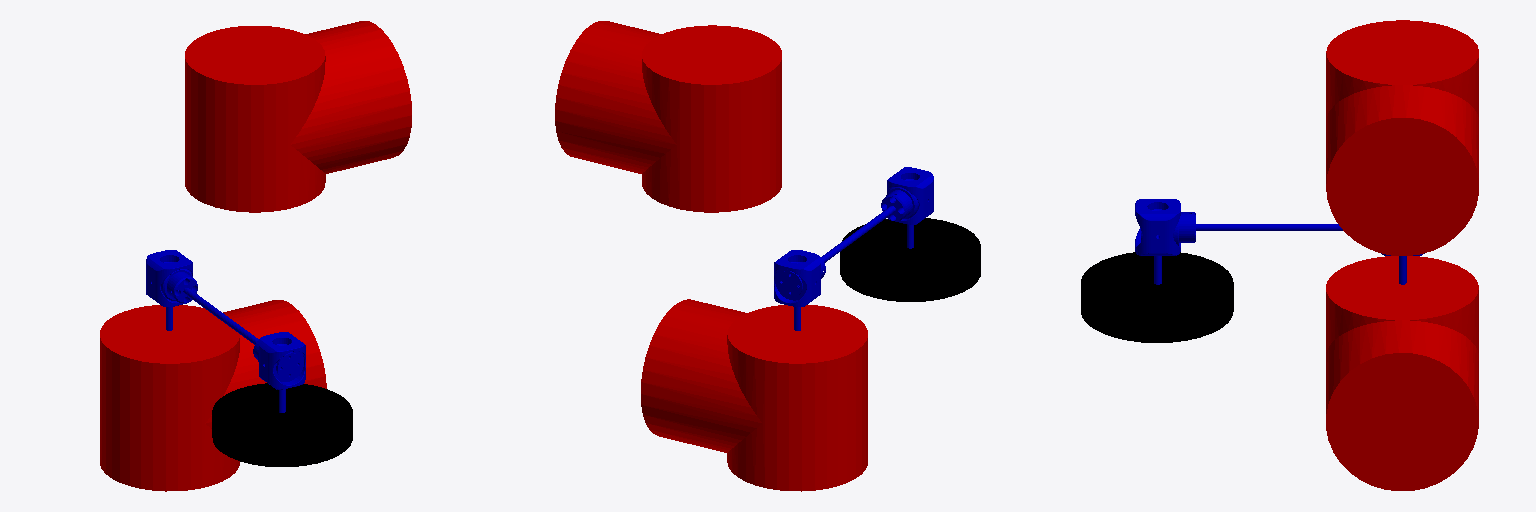
URDF robot description (node30):
<?xml version="1.0"?>
<robot  name="node30" >
 <material  name="blue" >
  <color  rgba="0 0 0.8 1.0" />
 </material>
 <material  name="red" >
  <color  rgba="0.8 0 0 1.0" />
 </material>
 <material  name="black" >
  <color  rgba="0.0 0.0 0.0 1.0" />
 </material>
 <link  name="root_mod" >
  <visual >
   <origin  rpy="0 0 0"  xyz="0 0 0" />
   <material  name="black" />
   <geometry >
    <cylinder  length="0.02"  radius="0.05" />
   </geometry>
  </visual>
 </link>
 <link  name="linkMod_1" >
  <inertial >
   <origin  rpy="-0.0 1.5707963267948966 0.0"  xyz="-8.881784197001253e-18 0.0 0.04" />
   <mass  value="0.2" />
   <inertia  ixz="0.0"  iyz="0.0"  iyy="0.0"  ixy="0.0"  ixx="0.0011127270000000002"  izz="0.0011127270000000002" />
  </inertial>
  <visual >
   <origin  rpy="-0.0 1.5707963267948966 0.0"  xyz="-8.881784197001253e-18 0.0 0.04" />
   <material  name="blue" />
   <geometry >
    <mesh  scale="0.001 0.001 0.001"  filename="./meshes/l1_module.obj" />
   </geometry>
  </visual>
 </link>
 <joint  type="revolute"  name="joint_1_revolute" >
  <parent  link="root_mod" />
  <child  link="linkMod_1" />
  <origin  rpy="0 0 0"  xyz="0.0 0.0 0.01" />
  <axis  xyz="0.0 0.0 1.0" />
 </joint>
 <transmission  name="act_joint_1_revolute" >
  <type  xmltext="SimpleTransmission" >
   SimpleTransmission
  </type>
  <actuator  name="trans_joint_1_revolute" >
   <mechanicalreduction  xmltext="1" >
    1
   </mechanicalreduction>
  </actuator>
  <joint  name="joint_1_revolute" />
 </transmission>
 <link  name="jointMod_2" >
  <inertial >
   <origin  rpy="-1.5707963267948963 0.0 0.0"  xyz="0.0 7.771561172376096e-19 -0.0035" />
   <mass  value="0.6" />
   <inertia  ixz="0.0"  iyz="0.0"  iyy="0.0007418180000000001"  ixy="0.0"  ixx="0.0007418180000000001"  izz="0.0011127270000000002" />
  </inertial>
  <visual >
   <origin  rpy="-1.5707963267948963 0.0 0.0"  xyz="0.0 7.771561172376096e-19 -0.0035" />
   <material  name="red" />
   <geometry >
    <mesh  scale="0.001 0.001 0.001"  filename="./meshes/j_module.obj" />
   </geometry>
  </visual>
 </link>
 <joint  type="fixed"  name="joint_2_fixed" >
  <parent  link="linkMod_1" />
  <child  link="jointMod_2" />
  <origin  rpy="0 0 0"  xyz="0.0 0.16 0.0" />
  <axis  xyz="0.0 0.0 -1.0" />
 </joint>
 <link  name="linkMod_3" >
  <inertial >
   <origin  rpy="1.5707963240855651 -1.2497703982816688e-08 -3.141592641092089"  xyz="0.03999999999999998 4.999081662324221e-10 -4.999081648780052e-10" />
   <mass  value="0.2" />
   <inertia  ixz="0.0"  iyz="0.0"  iyy="0.0"  ixy="0.0"  ixx="0.0011127270000000002"  izz="0.0011127270000000002" />
  </inertial>
  <visual >
   <origin  rpy="1.5707963240855651 -1.2497703982816688e-08 -3.141592641092089"  xyz="0.03999999999999998 4.999081662324221e-10 -4.999081648780052e-10" />
   <material  name="blue" />
   <geometry >
    <mesh  scale="0.001 0.001 0.001"  filename="./meshes/l2_module.obj" />
   </geometry>
  </visual>
 </link>
 <joint  type="revolute"  name="joint_3_revolute" >
  <parent  link="jointMod_2" />
  <child  link="linkMod_3" />
  <origin  rpy="0 0 0"  xyz="0.03 0.00030000000000001174 -0.053000000000000005" />
  <axis  xyz="1.0 0.0 0.0" />
 </joint>
 <transmission  name="act_joint_3_revolute" >
  <type  xmltext="SimpleTransmission" >
   SimpleTransmission
  </type>
  <actuator  name="trans_joint_3_revolute" >
   <mechanicalreduction  xmltext="1" >
    1
   </mechanicalreduction>
  </actuator>
  <joint  name="joint_3_revolute" />
 </transmission>
 <link  name="jointMod_4" >
  <inertial >
   <origin  rpy="1.5707963267948963 0.0 0.0"  xyz="0.0 7.771561172376096e-19 0.0035" />
   <mass  value="0.6" />
   <inertia  ixz="0.0"  iyz="0.0"  iyy="0.0007418180000000001"  ixy="0.0"  ixx="0.0007418180000000001"  izz="0.0011127270000000002" />
  </inertial>
  <visual >
   <origin  rpy="1.5707963267948963 0.0 0.0"  xyz="0.0 7.771561172376096e-19 0.0035" />
   <material  name="red" />
   <geometry >
    <mesh  scale="0.001 0.001 0.001"  filename="./meshes/j_module.obj" />
   </geometry>
  </visual>
 </link>
 <joint  type="fixed"  name="joint_4_fixed" >
  <parent  link="linkMod_3" />
  <child  link="jointMod_4" />
  <origin  rpy="0 0 0"  xyz="0.0400000018496602 9.892714319227296e-11 0.14799999950009177" />
  <axis  xyz="0.0 -0.0 1.0" />
 </joint>
 <link  name="eef" />
 <joint  type="fixed"  name="eef_joint" >
  <parent  link="jointMod_4" />
  <child  link="eef" />
  <origin  rpy="0 0 0"  xyz="0.03 -0.0002999999999999882 0.053000000000000005" />
  <axis  xyz="1.0 0.0 0.0" />
 </joint>
</robot>

--- Render facts (derived) ---
The picture shows the robot from 3 angles, left to right: view 1: azimuth 30°, elevation 25°; view 2: azimuth 150°, elevation 25°; view 3: azimuth 270°, elevation 25°; orthographic projection.
Robot: node30 — 6 links, 5 joints (2 revolute, 3 fixed); root link root_mod; default pose: all joints at 0.
Visible links, largest first — view 1: jointMod_4, jointMod_2, root_mod, linkMod_1; view 2: jointMod_4, jointMod_2, root_mod, linkMod_1; view 3: jointMod_4, jointMod_2, root_mod, linkMod_1.
Link boxes in pixels (box(x1,y1,x2,y2)): jointMod_4: box(185, 21, 411, 212); jointMod_2: box(100, 300, 326, 491); root_mod: box(212, 383, 352, 466); linkMod_1: box(146, 250, 305, 412); jointMod_4: box(555, 21, 781, 212); jointMod_2: box(641, 299, 867, 491); root_mod: box(840, 218, 980, 301); linkMod_1: box(774, 167, 933, 330); jointMod_4: box(1326, 20, 1478, 255); jointMod_2: box(1326, 256, 1478, 490); root_mod: box(1081, 252, 1233, 342); linkMod_1: box(1135, 199, 1424, 284).
Size in the robot's own frame: 0.22 by 0.2603 by 0.302 metres.
Meshes: 3 distinct files referenced, 3 mesh visuals loaded (2 OBJ); not drawn: 1 (reference not matched to a file when rendering).